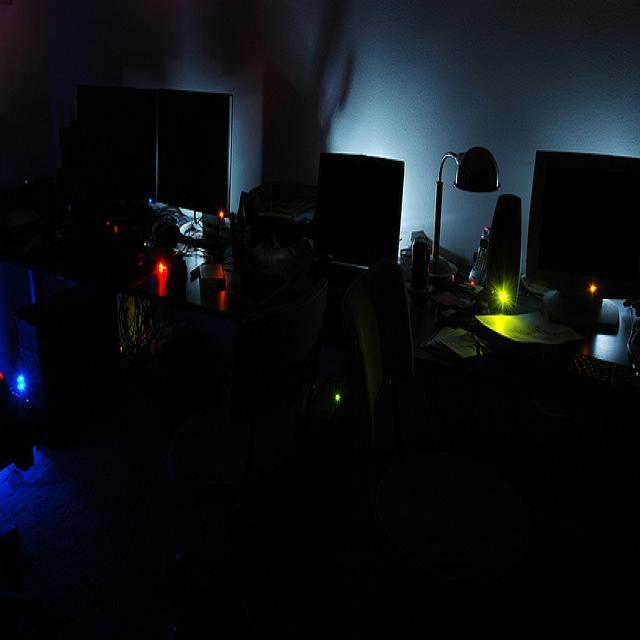Table: (131, 242, 360, 433)
chair: (347, 256, 447, 484)
